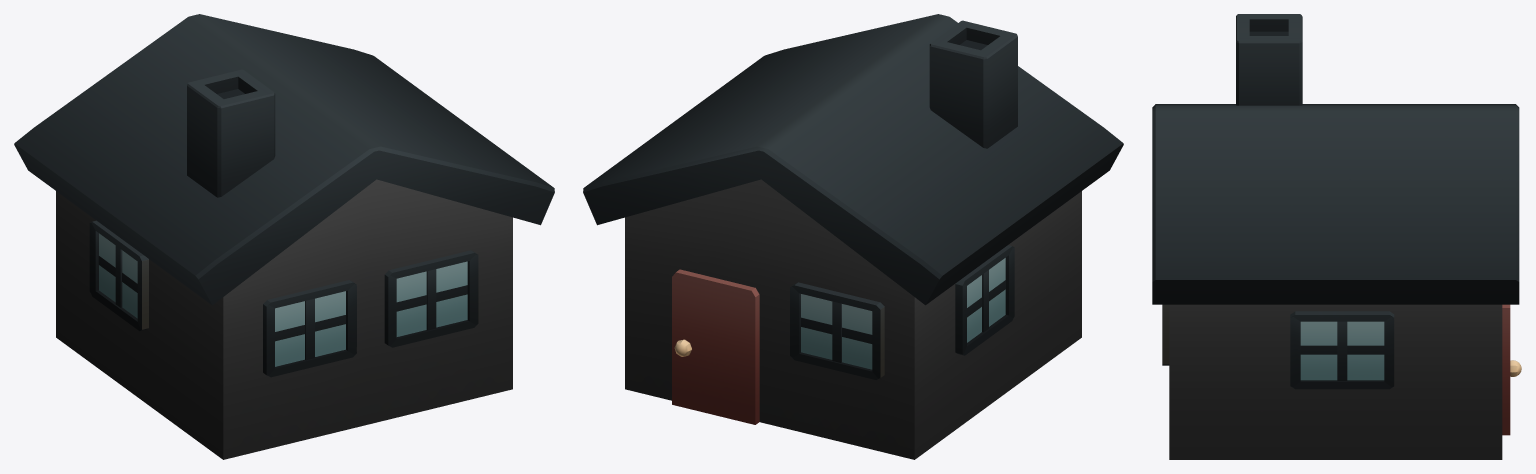
File: houseBlack.fbx
3 renders of one model, left to right at view 1: azimuth 30°, elevation 25°; view 2: azimuth 150°, elevation 25°; view 3: azimuth 270°, elevation 25°, orthographic.
Parts seen in each view (by area): view 1: HouseBlack; view 2: HouseBlack; view 3: HouseBlack.
Boxes of the visible parts, x1=… form: HouseBlack: x1=14, y1=14, x2=554, y2=459; HouseBlack: x1=583, y1=14, x2=1123, y2=459; HouseBlack: x1=1152, y1=14, x2=1521, y2=459.
Bounding box in the file's own units: 6.2 × 5.3 × 5.55.
